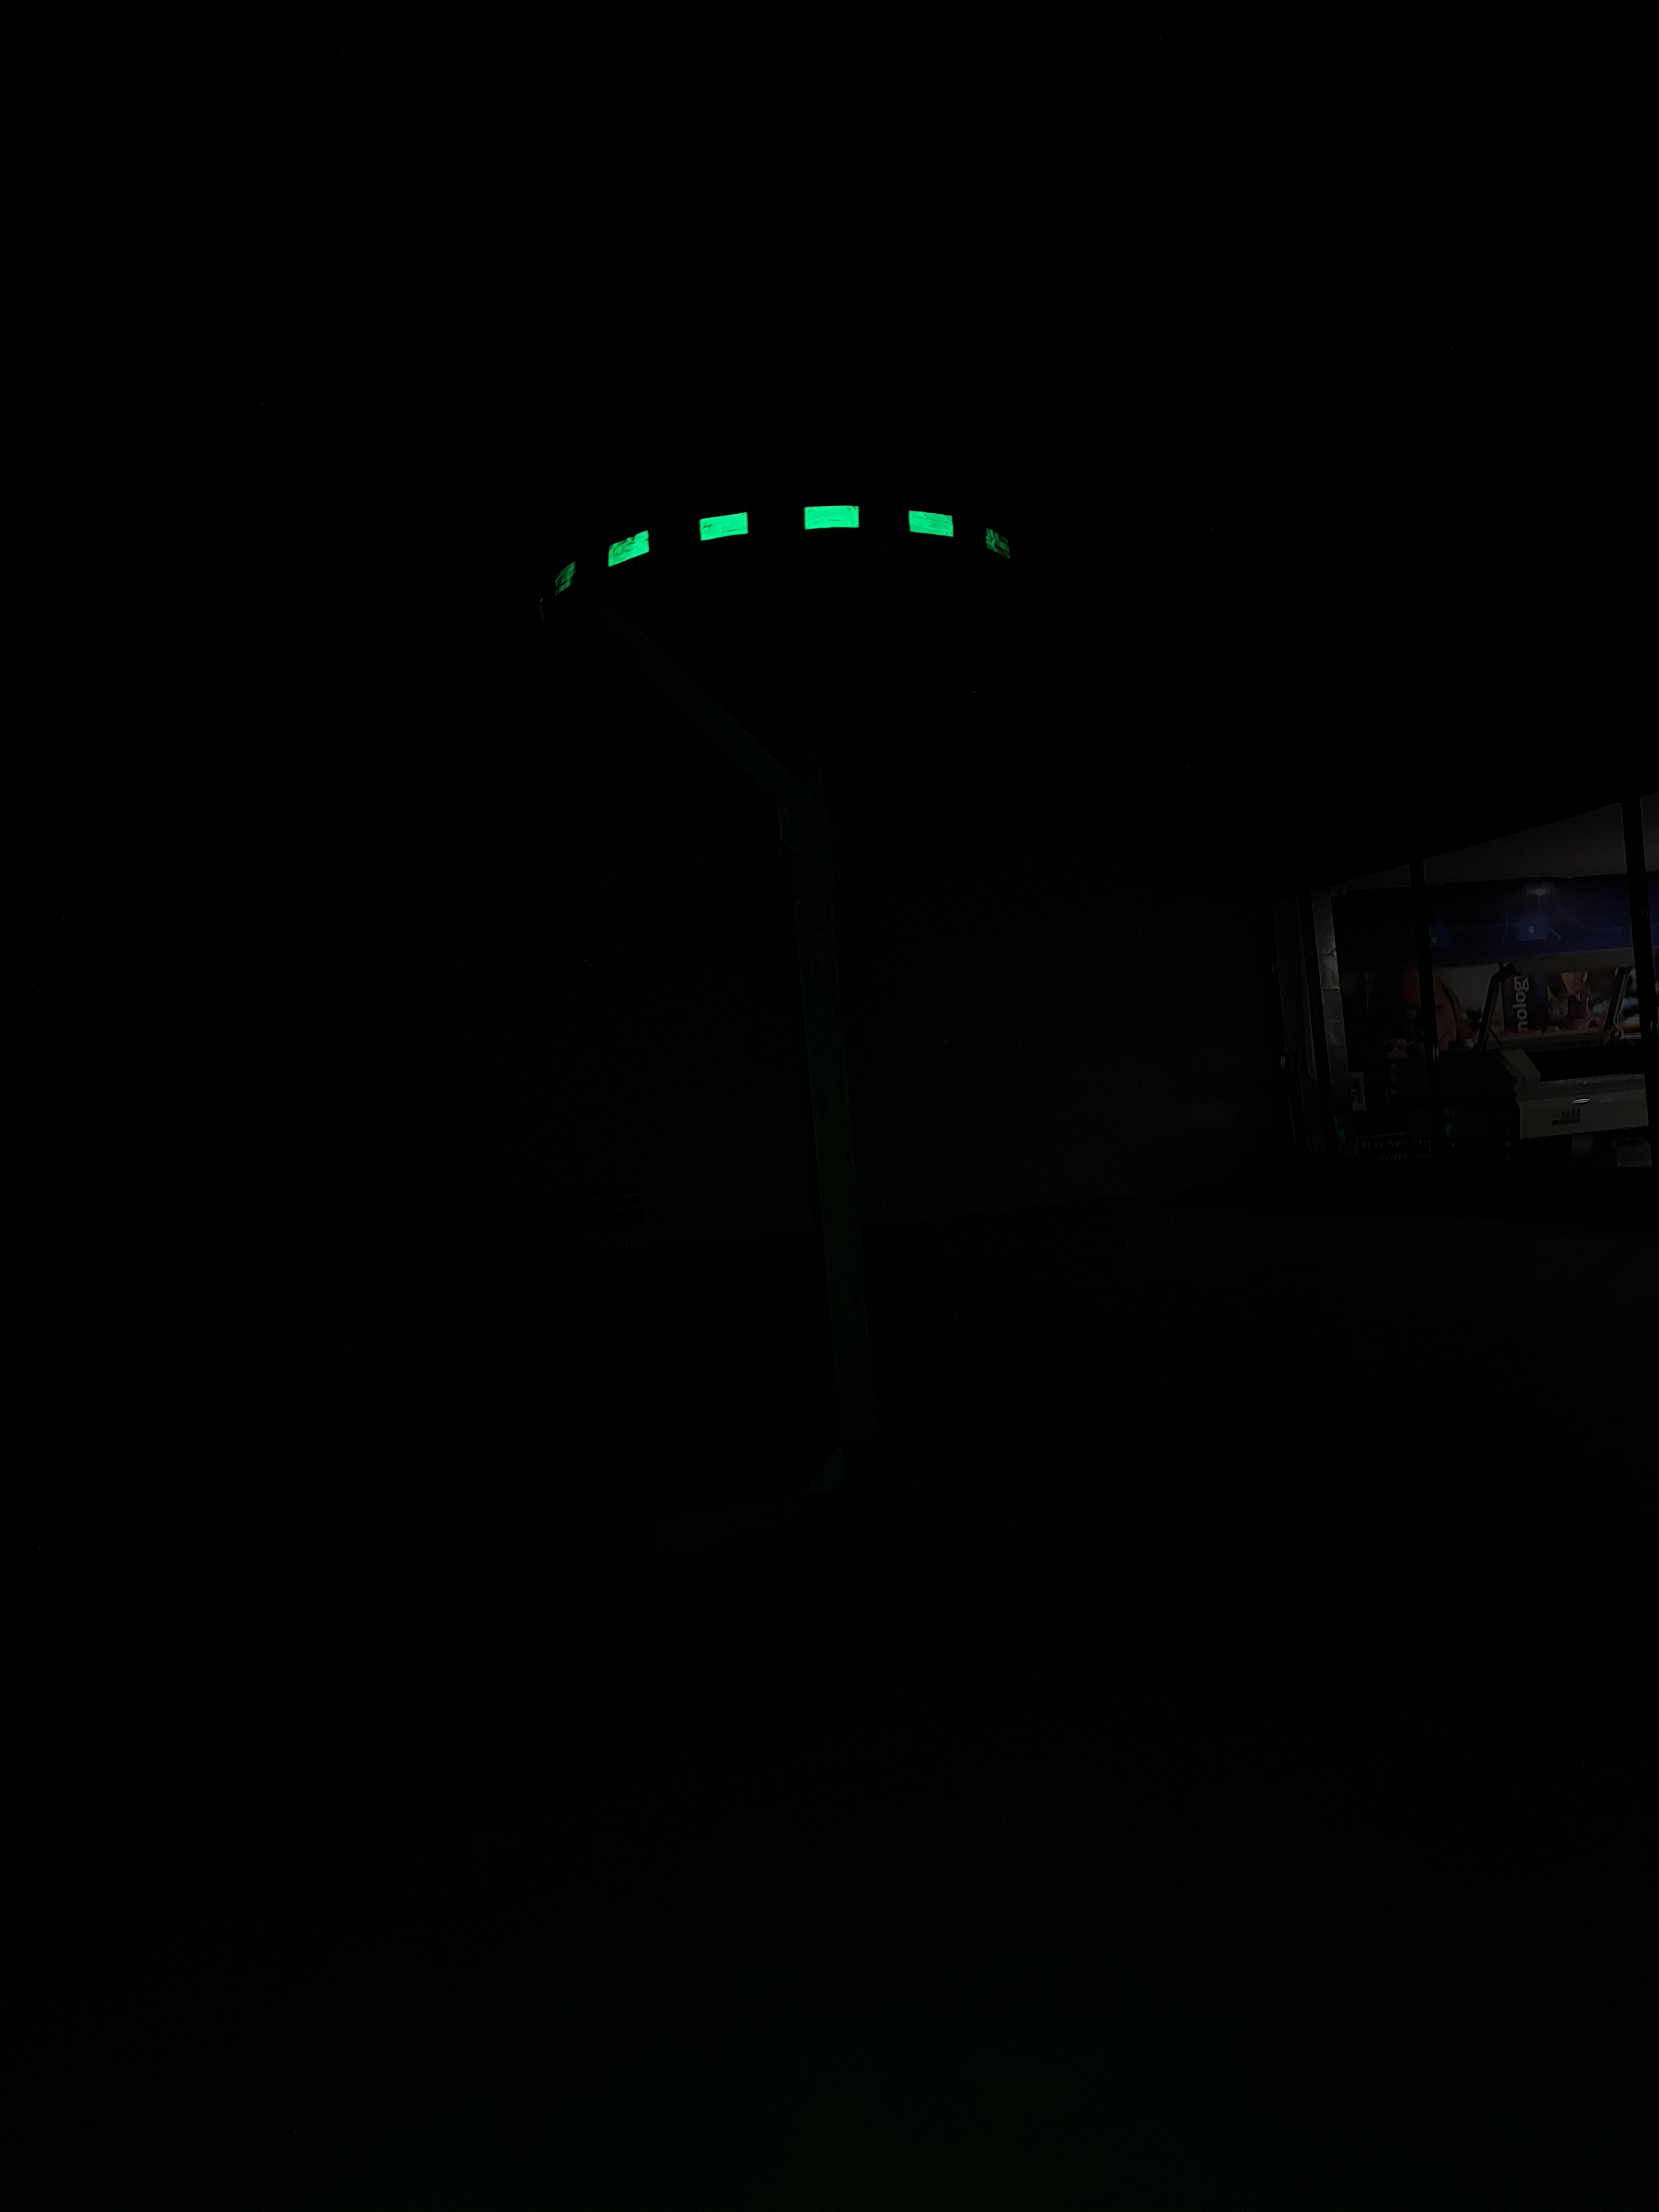hoop: (530, 465, 1054, 613)
